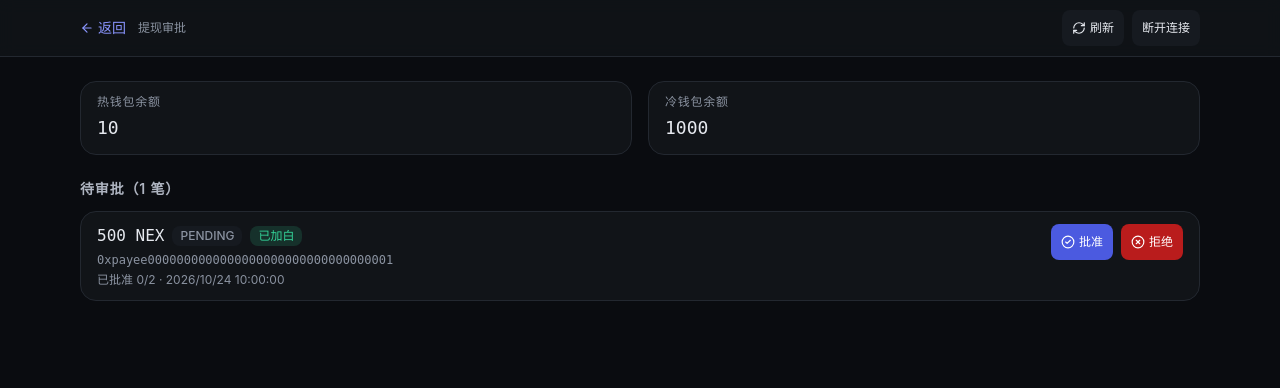
审批动作 › 动作失败：错误显示在动作横幅，不污染首屏错误态
Click the button "批准": [1082, 242] box [1051,224,1113,260]
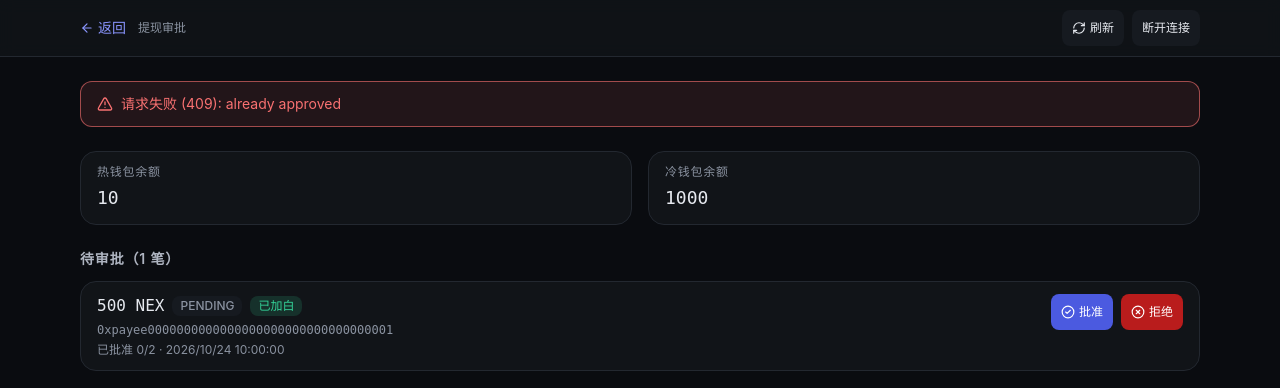
expect the text "请求失败 (409): already approved" is shown: met, box [80,81,1200,127]
